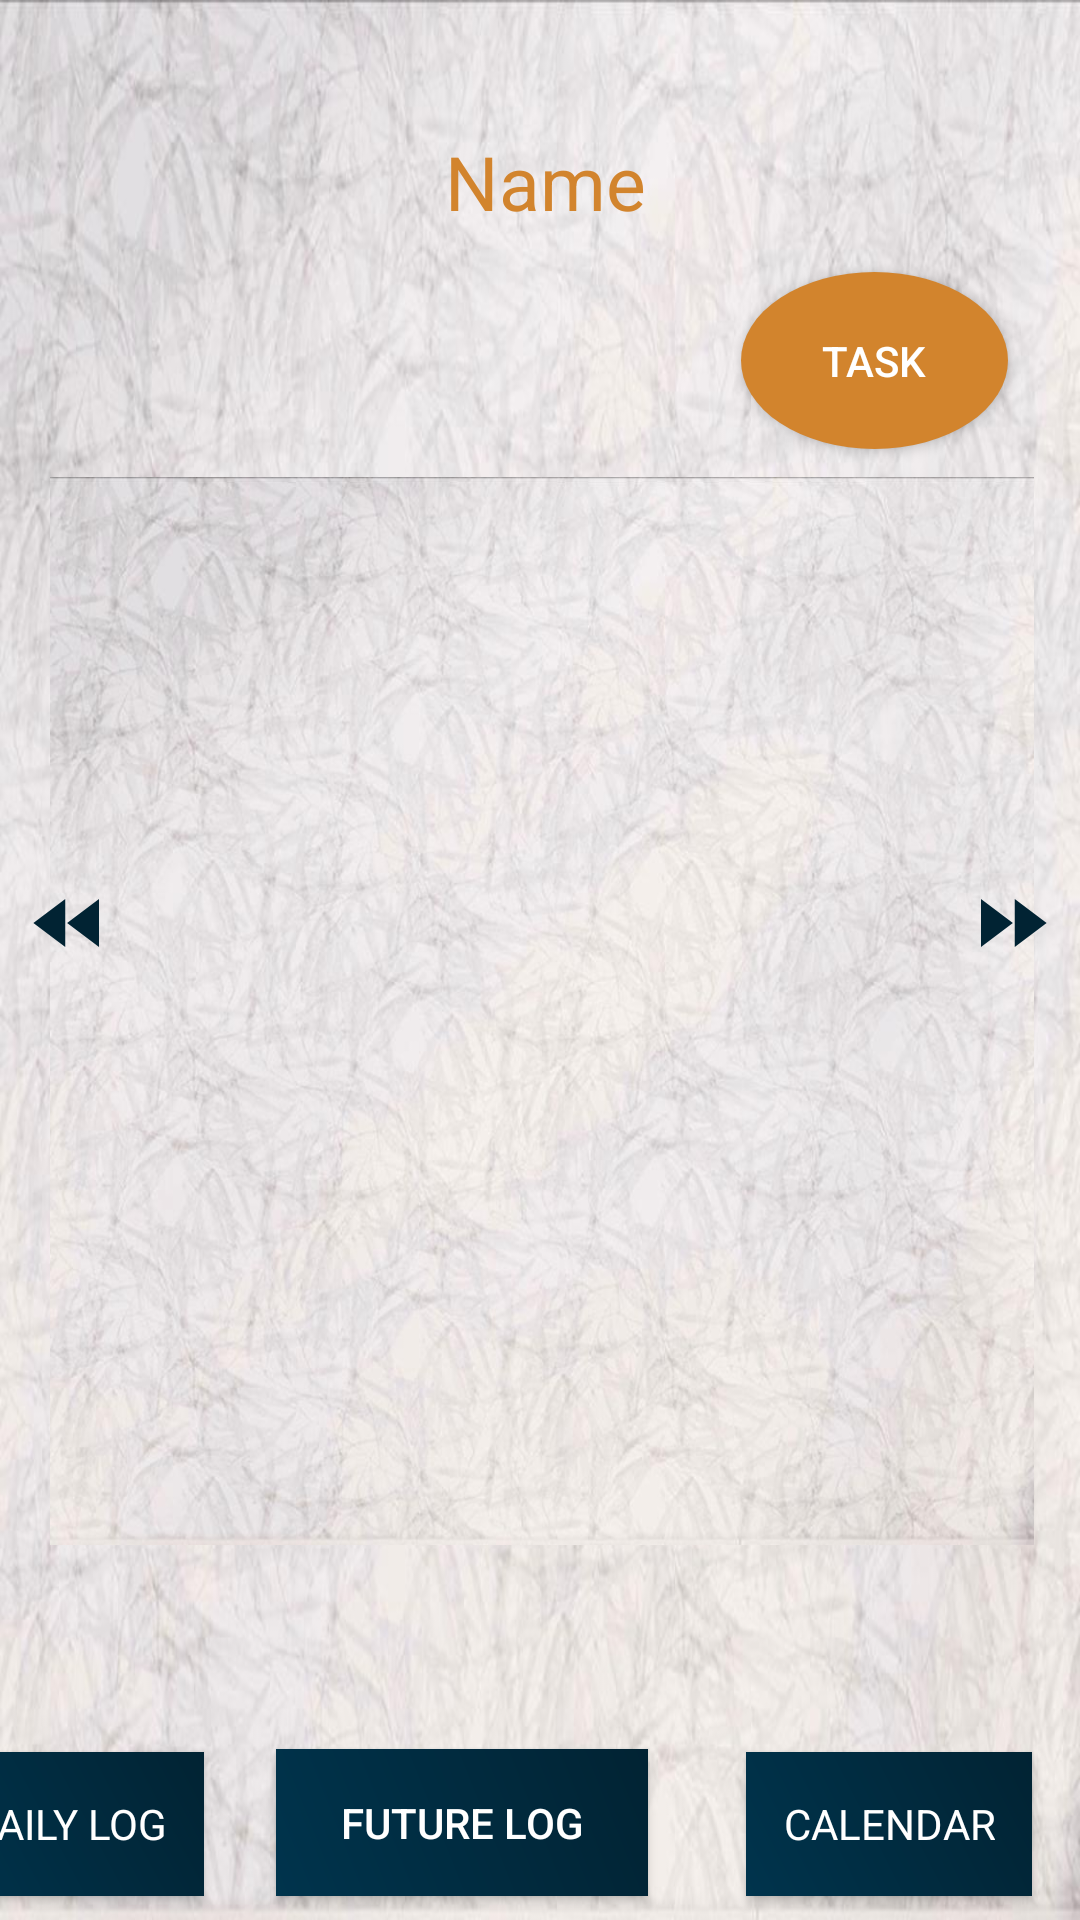

Screen size 1080px×1920px. Icon name, then its box in pixels as box(x1, y1, x2, y2):
backword: box(33, 899, 99, 947)
forward: box(981, 899, 1047, 947)
